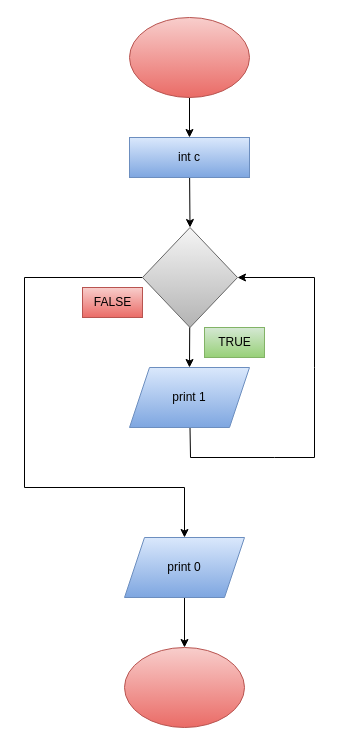
Some shapes in this 340 by 745 pixel diagram are drawn without their labels. The shapes that lost their labels are listed below. From the top down, each one's centre as x and y in pixels, then its label:
point 189,57: START
point 190,277: c = getchar() != EOF
point 184,687: END
